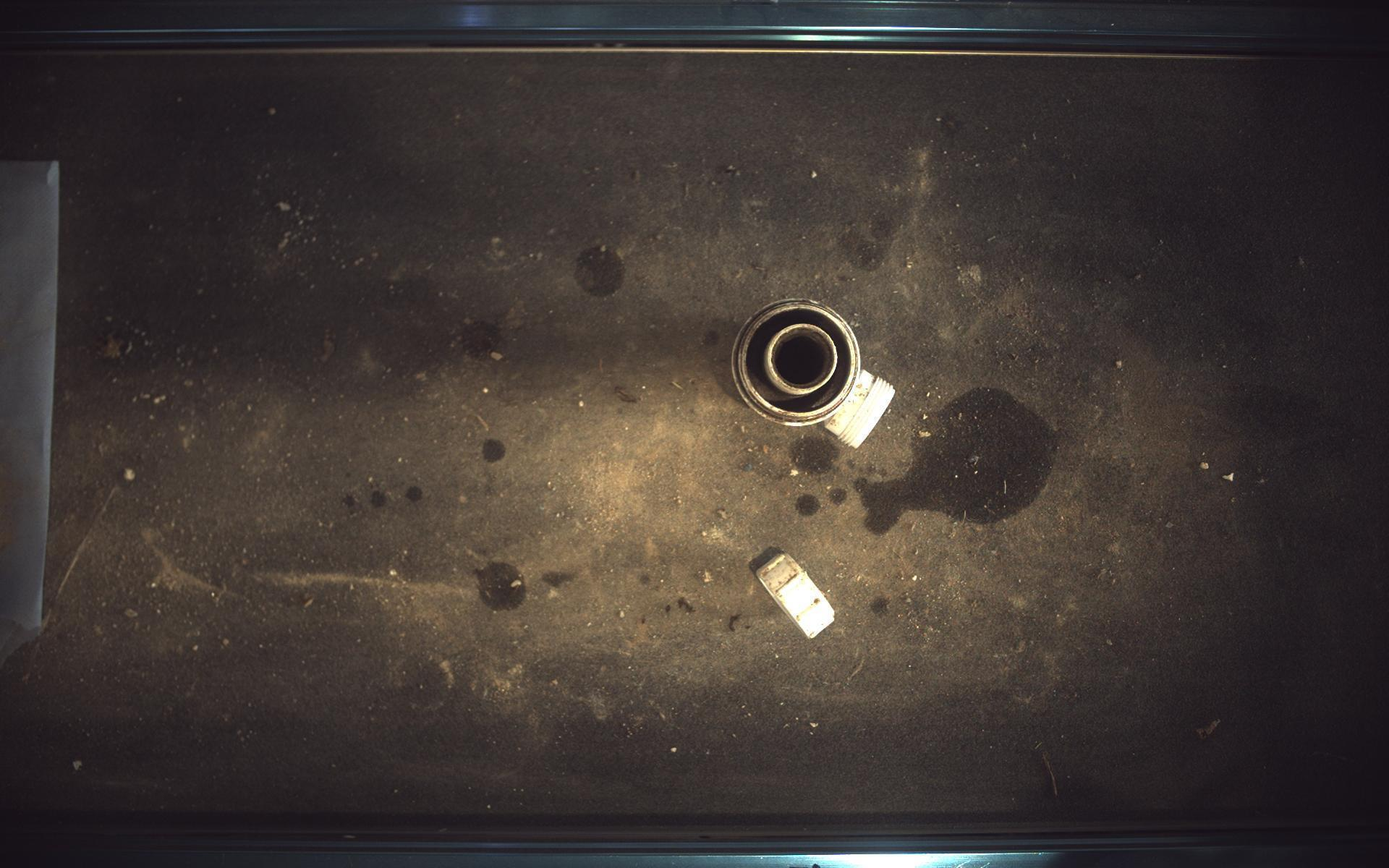plastic: (734, 299, 896, 448), (752, 548, 836, 639)
